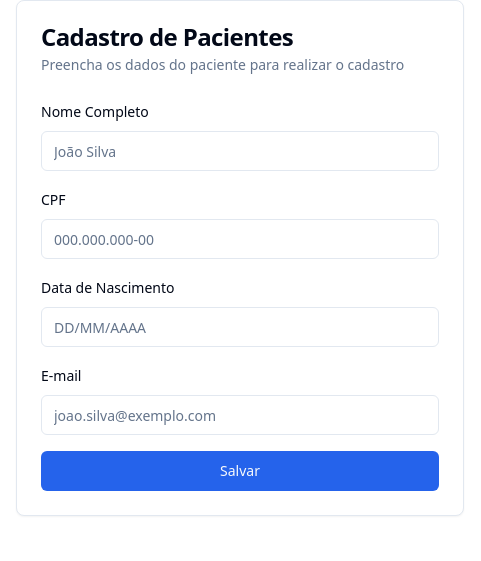
Test case: PatientForm › deve validar nome completo
Type "João" into the field labelled "Nome Completo" at [240, 151], box x1=41 y1=131 x2=439 y2=171
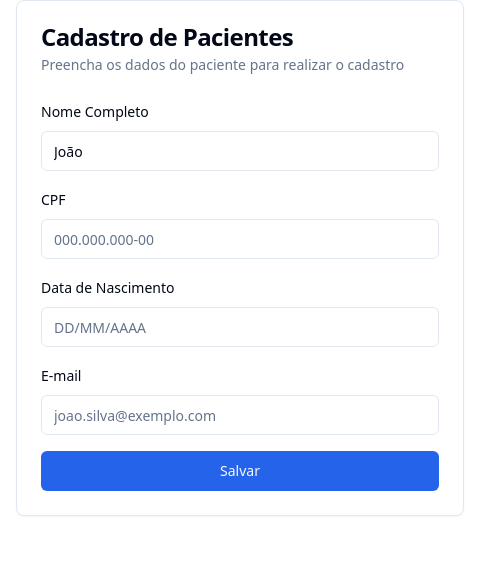
Leave the field labelled "Nome Completo", box x1=41 y1=131 x2=439 y2=171
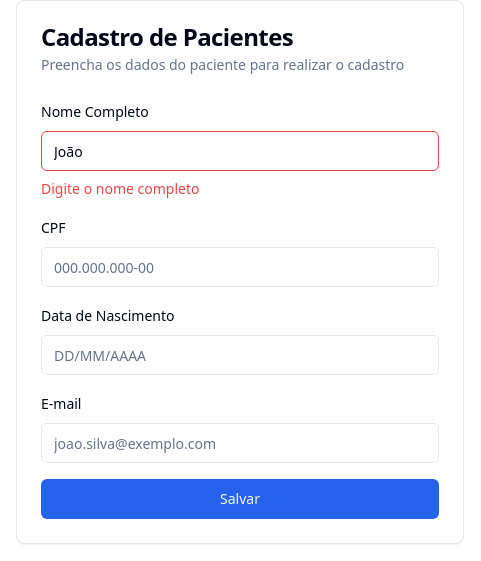
Now the text "Digite o nome completo" is shown, box x1=41 y1=179 x2=199 y2=198
